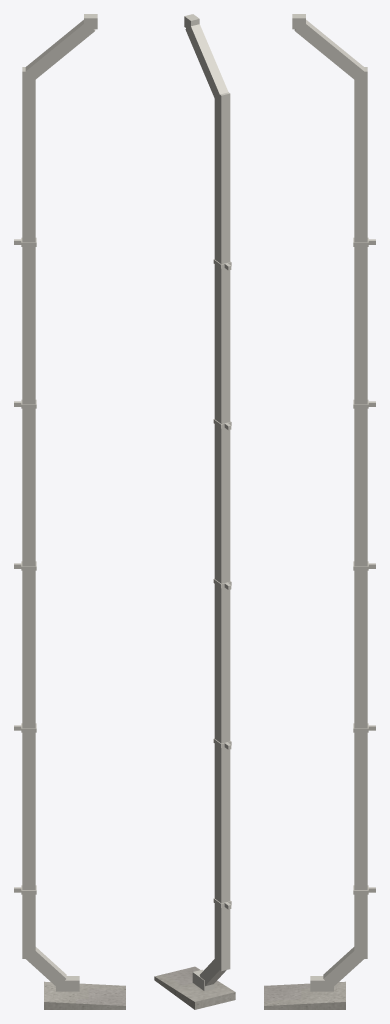
Rendered from downspout.glb.
3 views of the same model, side by side, from view 1: azimuth 90°, elevation 25°; view 2: azimuth 210°, elevation 25°; view 3: azimuth 270°, elevation 25° (orthographic).
Visible parts, largest first — view 1: downspout_gutter, downspout_concrete; view 2: downspout_gutter, downspout_concrete; view 3: downspout_gutter, downspout_concrete.
Boxes of the visible parts, x1,y1,x2,y2 form: downspout_gutter: (14, 14, 97, 991); downspout_concrete: (44, 981, 125, 1009); downspout_gutter: (184, 14, 231, 991); downspout_concrete: (154, 966, 235, 1009); downspout_gutter: (292, 14, 375, 991); downspout_concrete: (264, 981, 345, 1009).
Size of the model in its own units: 0.32 by 7.29 by 0.75.
Materials: 2 (1 with a texture image).
